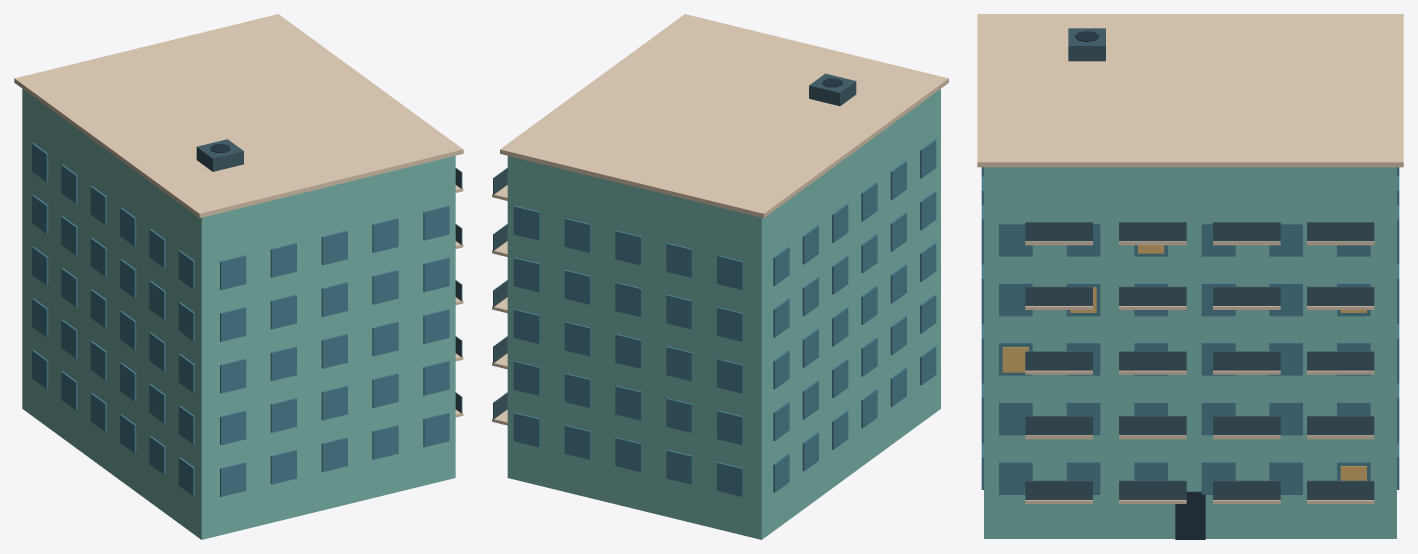
Rendered from building-apartment.obj.
3 views of the same model, side by side, from view 1: azimuth 30°, elevation 25°; view 2: azimuth 150°, elevation 25°; view 3: azimuth 270°, elevation 25° (orthographic). The views are drawn at different scales.
Visible parts, largest first — view 1: building-apartment; view 2: building-apartment; view 3: building-apartment.
Part boxes in pixels (x1,y1,x2,y2): building-apartment: [14, 14, 463, 539]; building-apartment: [492, 14, 948, 539]; building-apartment: [977, 14, 1403, 539].
Bounding box in the file's own units: 20.15 × 23.25 × 22.7.
